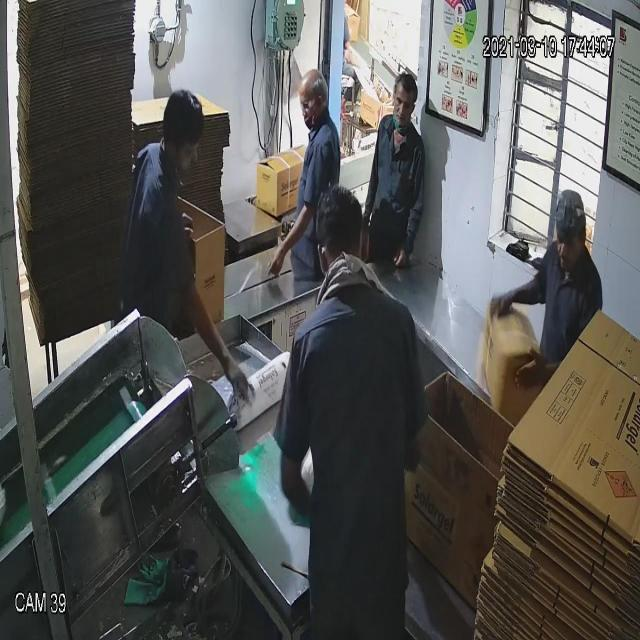No_Gloves: (37, 54, 535, 365)
